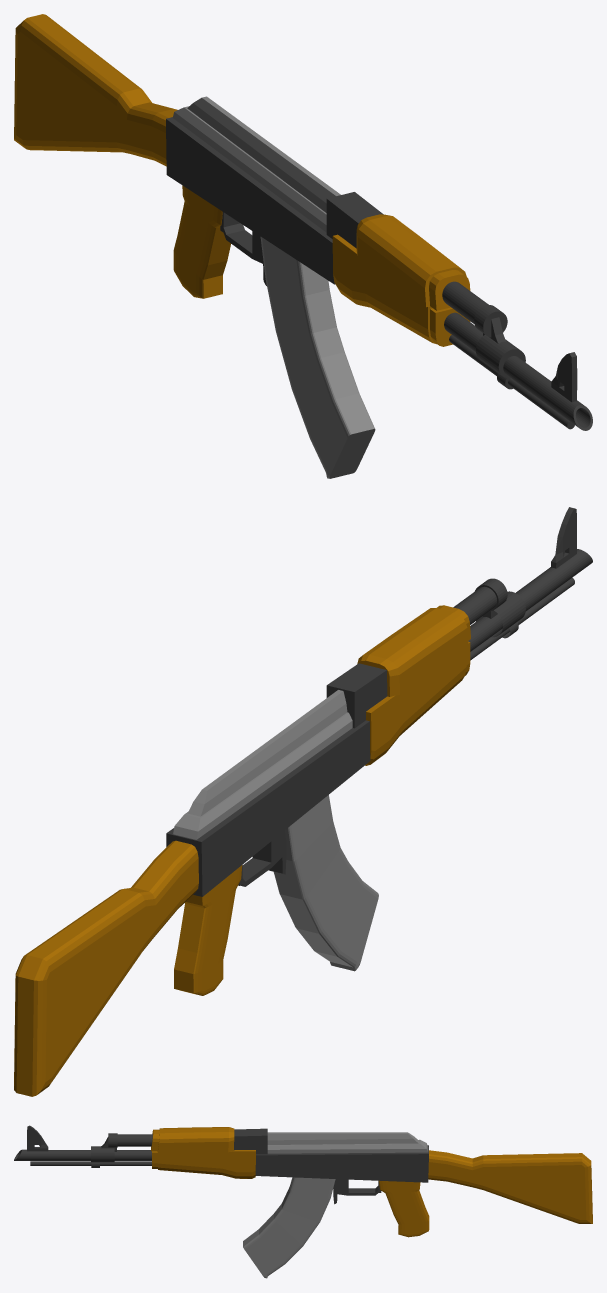
File: gun2000.fbx
The picture shows the model from 3 angles, top to bottom: view 1: azimuth 30°, elevation 25°; view 2: azimuth 150°, elevation 25°; view 3: azimuth 270°, elevation 25°; orthographic projection. The views are drawn at different scales.
Parts seen in each view (by area): view 1: Cube.010; view 2: Cube.010; view 3: Cube.010.
Boxes of the visible parts, <box> form: Cube.010: <box>14,14,592,478</box>; Cube.010: <box>14,507,592,1096</box>; Cube.010: <box>14,1125,592,1278</box>.
Bounding box in the file's own units: 56.61 × 372 × 1300.
